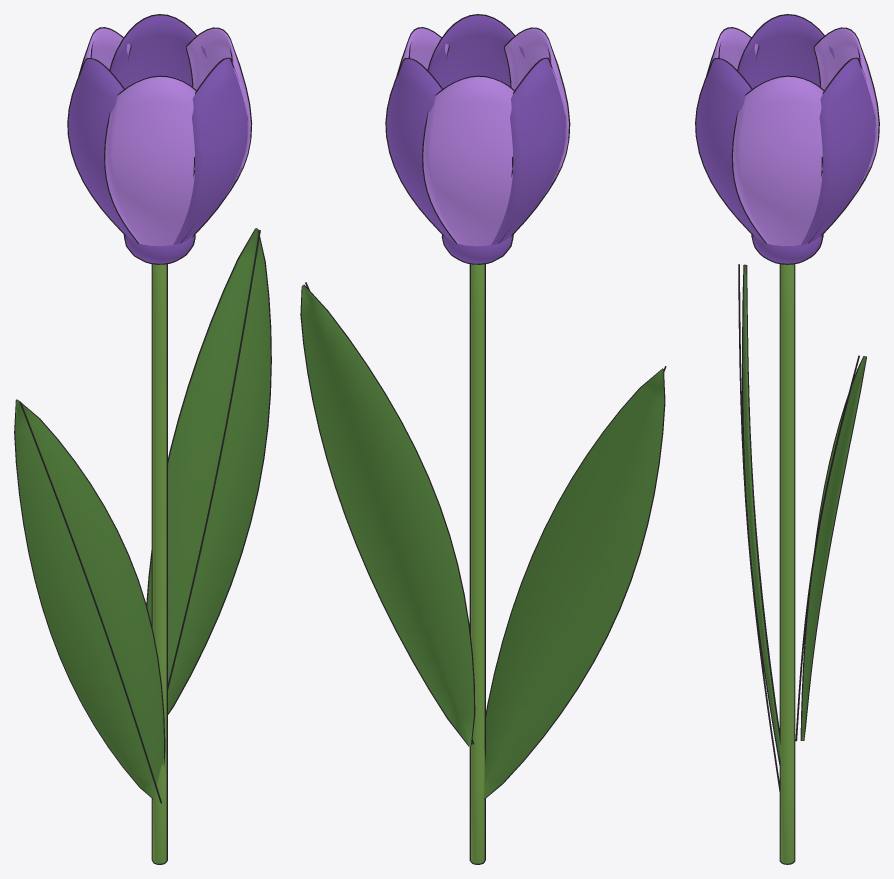
The model's file is tulip_violet.glb.
3 renders of one model, left to right at view 1: azimuth 30°, elevation 25°; view 2: azimuth 150°, elevation 25°; view 3: azimuth 270°, elevation 25°, orthographic.
Visible parts, largest first — view 1: tulip_Geometry; view 2: tulip_Geometry; view 3: tulip_Geometry.
Boxes of the visible parts, x1=… form: tulip_Geometry: x1=14, y1=14, x2=271, y2=864; tulip_Geometry: x1=300, y1=14, x2=666, y2=864; tulip_Geometry: x1=695, y1=14, x2=879, y2=864.
Size of the model in its own units: 0.2024 by 0.5152 by 0.1055.
